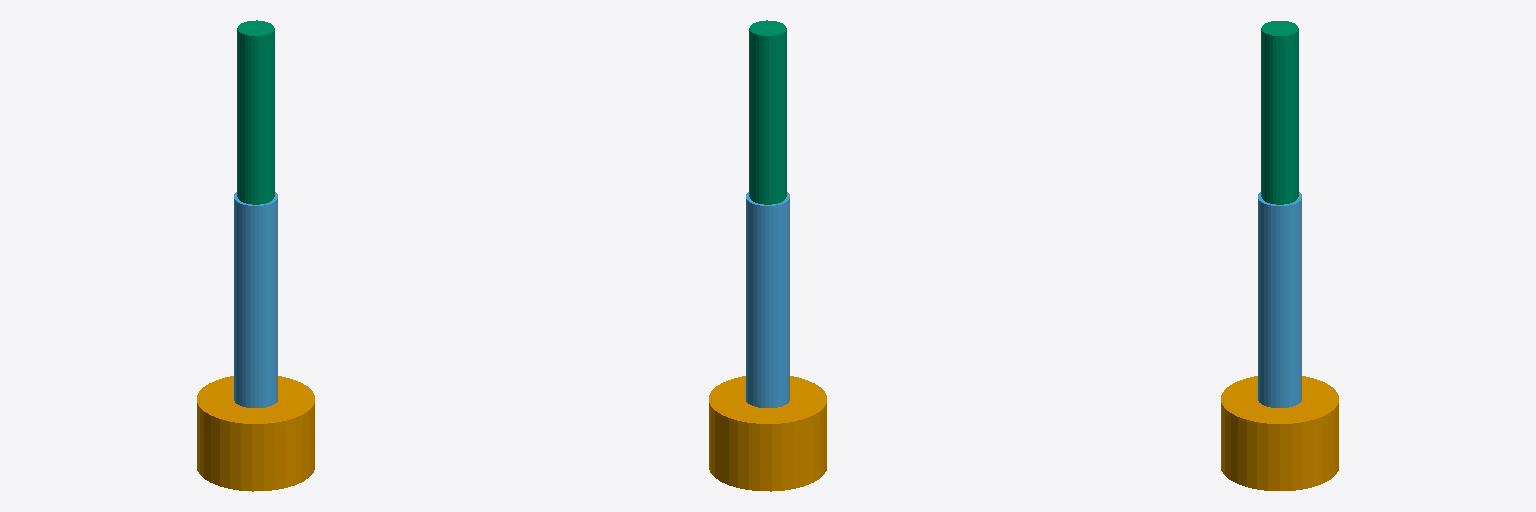
robot.urdf — demo_arm:
<?xml version="1.0"?>
<!-- A two-joint arm on a fixed base. Replace this file with your own robot's URDF. -->
<robot name="demo_arm">
  <link name="base">
    <inertial><mass value="2.0"/><inertia ixx="0.02" iyy="0.02" izz="0.02" ixy="0" ixz="0" iyz="0"/></inertial>
    <visual><geometry><cylinder radius="0.08" length="0.1"/></geometry></visual>
    <!-- No <collision> on the base: MuJoCo merges a fixed base into its world body, and unlike
         parent/child pairs, contacts with the world body are not filtered, so a base collision
         that touches the first link pins the joint. -->
  </link>
  <link name="upper_arm">
    <inertial><origin xyz="0 0 0.15"/><mass value="0.6"/><inertia ixx="0.005" iyy="0.005" izz="0.001" ixy="0" ixz="0" iyz="0"/></inertial>
    <visual><origin xyz="0 0 0.15"/><geometry><cylinder radius="0.03" length="0.3"/></geometry></visual>
    <collision><origin xyz="0 0 0.15"/><geometry><cylinder radius="0.03" length="0.3"/></geometry></collision>
  </link>
  <link name="forearm">
    <inertial><origin xyz="0 0 0.125"/><mass value="0.4"/><inertia ixx="0.003" iyy="0.003" izz="0.001" ixy="0" ixz="0" iyz="0"/></inertial>
    <visual><origin xyz="0 0 0.125"/><geometry><cylinder radius="0.025" length="0.25"/></geometry></visual>
    <collision><origin xyz="0 0 0.125"/><geometry><cylinder radius="0.025" length="0.25"/></geometry></collision>
  </link>
  <joint name="shoulder" type="revolute">
    <parent link="base"/><child link="upper_arm"/>
    <origin xyz="0 0 0.05"/><axis xyz="0 1 0"/>
    <limit lower="-1.57" upper="1.57" effort="20" velocity="2"/>
  </joint>
  <joint name="elbow" type="revolute">
    <parent link="upper_arm"/><child link="forearm"/>
    <origin xyz="0 0 0.3"/><axis xyz="0 1 0"/>
    <limit lower="-2.0" upper="2.0" effort="10" velocity="2"/>
  </joint>
</robot>

--- What the picture shows (computed from the rendered views, not written in the file) ---
3 views of the same robot in one strip: view 1: azimuth 30°, elevation 25°; view 2: azimuth 150°, elevation 25°; view 3: azimuth 270°, elevation 25° (orthographic).
Robot: demo_arm — 3 links, 2 joints (2 revolute); root link base; default pose: all joints at 0.
Links seen in each view (by area): view 1: base, upper_arm, forearm; view 2: base, upper_arm, forearm; view 3: base, upper_arm, forearm.
Link boxes in pixels (x1,y1,x2,y2): base: [197, 376, 314, 491]; upper_arm: [234, 192, 277, 407]; forearm: [237, 20, 274, 204]; base: [709, 376, 826, 491]; upper_arm: [746, 192, 789, 407]; forearm: [749, 20, 786, 204]; base: [1221, 376, 1338, 490]; upper_arm: [1258, 192, 1301, 407]; forearm: [1261, 21, 1298, 204].
Size in the robot's own frame: 0.16 by 0.16 by 0.65 metres.
Geometry: primitives only (box / cylinder / sphere), no mesh files.
